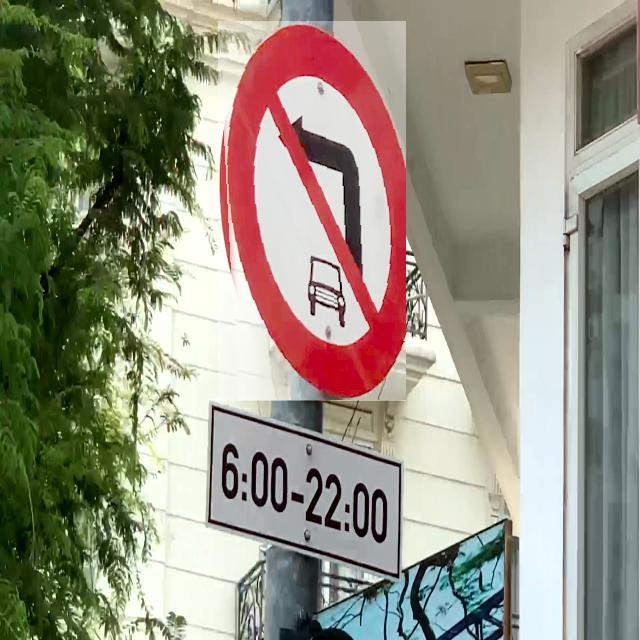P-103c: (218, 22, 406, 402)
